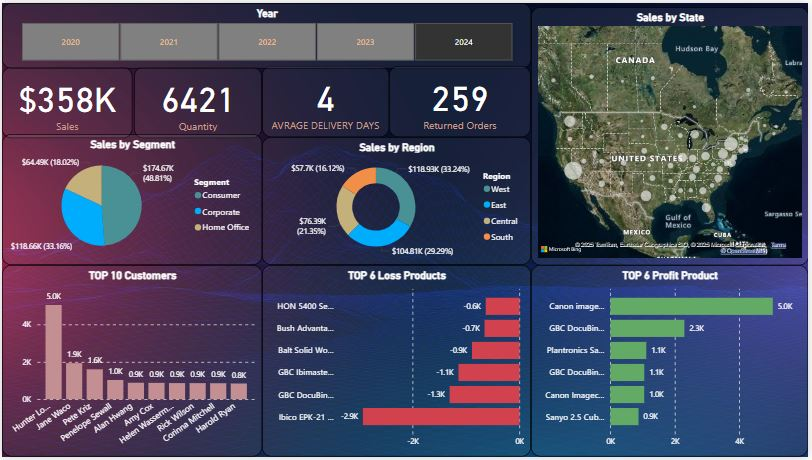

The page's visual inventory and layout, read from the dashboard file:
{"tool":"powerbi","page":{"name":"Page 1","canvas":[1280,720],"ordinal":0},"visuals":[{"type":"card","fields":{"Values":["Sum(Orders.Sales)"]},"box":[0,101.5,207.1,112.6],"z":0},{"type":"card","fields":{"Values":["Sum(Orders.Quantity)"]},"box":[209.9,101.5,202.9,112.6],"z":1000},{"type":"card","fields":{"Values":["Avg(Orders.DELIVERY DAYS)"]},"box":[413.2,100.8,201.6,112.5],"z":2000},{"type":"slicer","title":"Year","fields":{"Values":["Orders.Year"]},"box":[0,0,839.9,104.1],"z":3000},{"type":"card","fields":{"Values":["Sum(Returns.Returned Orders)"]},"box":[614.8,100.8,225.1,112.5],"z":4000},{"type":"map","title":"Sales by State","fields":{"Category":["Orders.State"],"Size":["Sum(Orders.Sales)"]},"box":[839.5,5.6,440.6,410],"z":5000},{"type":"clusteredBarChart","title":"TOP 6 Profit Product","fields":{"Category":["Orders.Product Name"],"Y":["Sum(Orders.Profit)"]},"box":[839.9,416.6,440.1,304],"z":6000},{"type":"clusteredBarChart","title":"TOP 6 Loss Products","fields":{"Category":["Orders.Product Name"],"Y":["Sum(Orders.Profit)"]},"box":[413.2,416.6,426.7,304],"z":7000},{"type":"pieChart","title":"Sales by Segment","fields":{"Category":["Orders.Segment"],"Y":["Sum(Orders.Sales)"]},"box":[0,208.3,413.2,208.3],"z":8000},{"type":"donutChart","title":"Sales by Region","fields":{"Y":["Sum(Orders.Sales)"],"Category":["Orders.Region"]},"box":[413.2,213.3,426.7,203.3],"z":9000},{"type":"columnChart","title":"TOP 10 Customers","fields":{"Y":["Sum(Orders.Profit)"],"Category":["Orders.Customer Name"]},"box":[0,416.6,413.2,304],"z":10000}]}

Visuals, with their boxes in screenshot pixels (x1, y1, x2, y2), scaled from the page's 1280x720 canvas onto the 812x460 screenshot:
card - Sum(Orders.Sales): detection(0, 65, 131, 137)
card - Sum(Orders.Quantity): detection(133, 65, 262, 137)
card - Avg(Orders.DELIVERY DAYS): detection(262, 64, 390, 136)
"Year" slicer: detection(0, 0, 533, 67)
card - Sum(Returns.Returned Orders): detection(390, 64, 533, 136)
"Sales by State" map: detection(533, 4, 811, 266)
"TOP 6 Profit Product" clusteredBarChart: detection(533, 266, 811, 459)
"TOP 6 Loss Products" clusteredBarChart: detection(262, 266, 533, 459)
"Sales by Segment" pieChart: detection(0, 133, 262, 266)
"Sales by Region" donutChart: detection(262, 136, 533, 266)
"TOP 10 Customers" columnChart: detection(0, 266, 262, 459)
